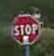stop: (8, 13, 41, 44)
